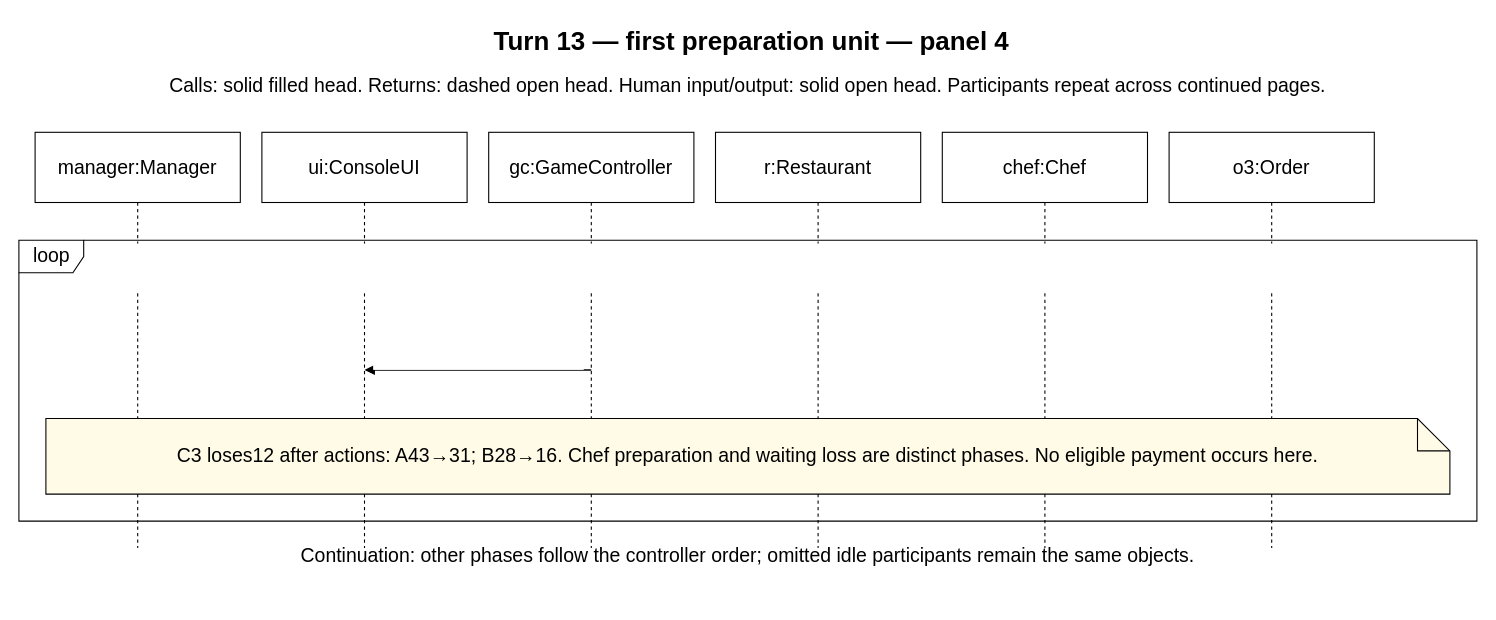
The diagram is 1496 pixels wide and 620 high, and some of its shapes have lost their labels. Here are the shapes that lost their labels. From the top down, the centre of each, then its label:
At (x=793, y=267): "[for turn = 1..18; detail: turn 13 Chef and automatic phases] [continued]".
At (x=478, y=342): "showTurnEnd(summary13)".
